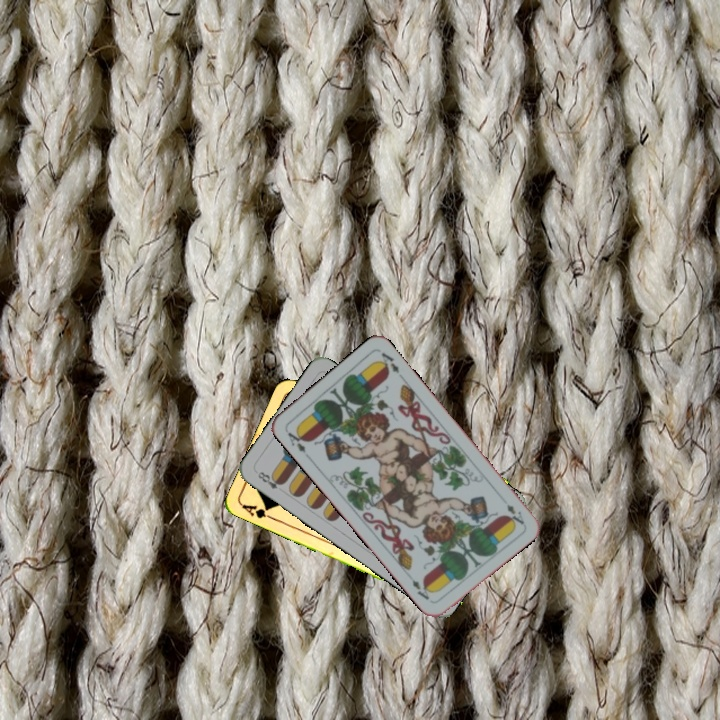E8: (253, 467, 286, 492)
EA: (282, 426, 310, 457), (503, 500, 527, 528)
GA: (238, 500, 277, 523)
